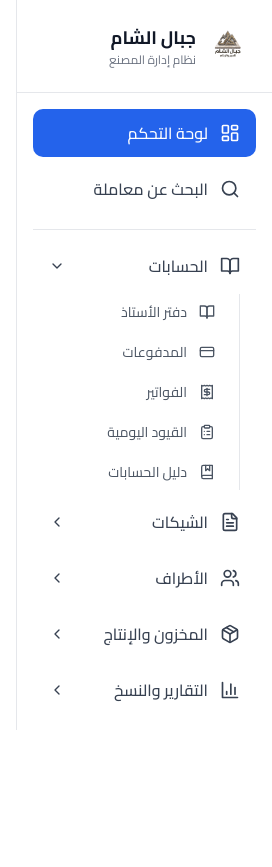
Test: Sidebar › Navigation Groups › can expand parties group by clicking
# Click the parties group trigger
Click the button "الأطراف": (144, 578) [33,554,256,602]
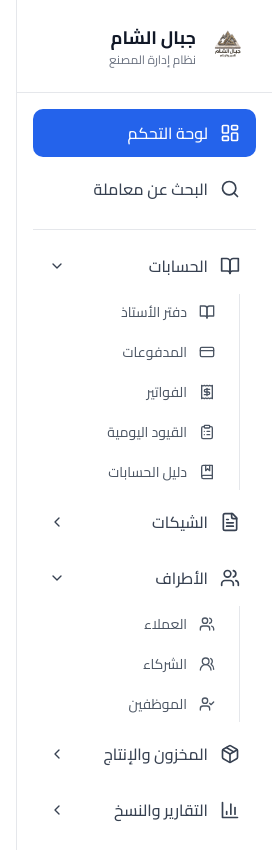
Expected: the link "العملاء" is shown, [144,611,215,637]
Expected: the link "الشركاء" is shown, [143,651,215,677]
Expected: the link "الموظفين" is shown, [129,691,215,717]
